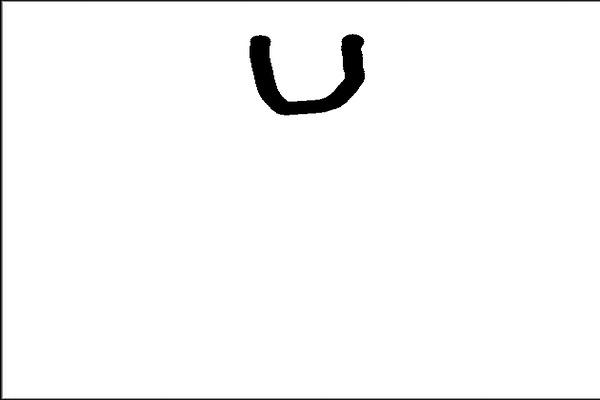U: (239, 26, 372, 119)
